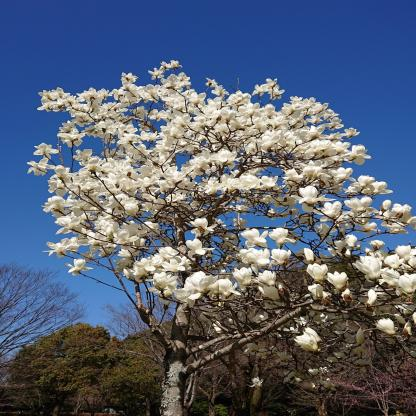Mokuren: (28, 59, 415, 388)
